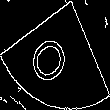O_NE: (30, 24, 80, 86)
